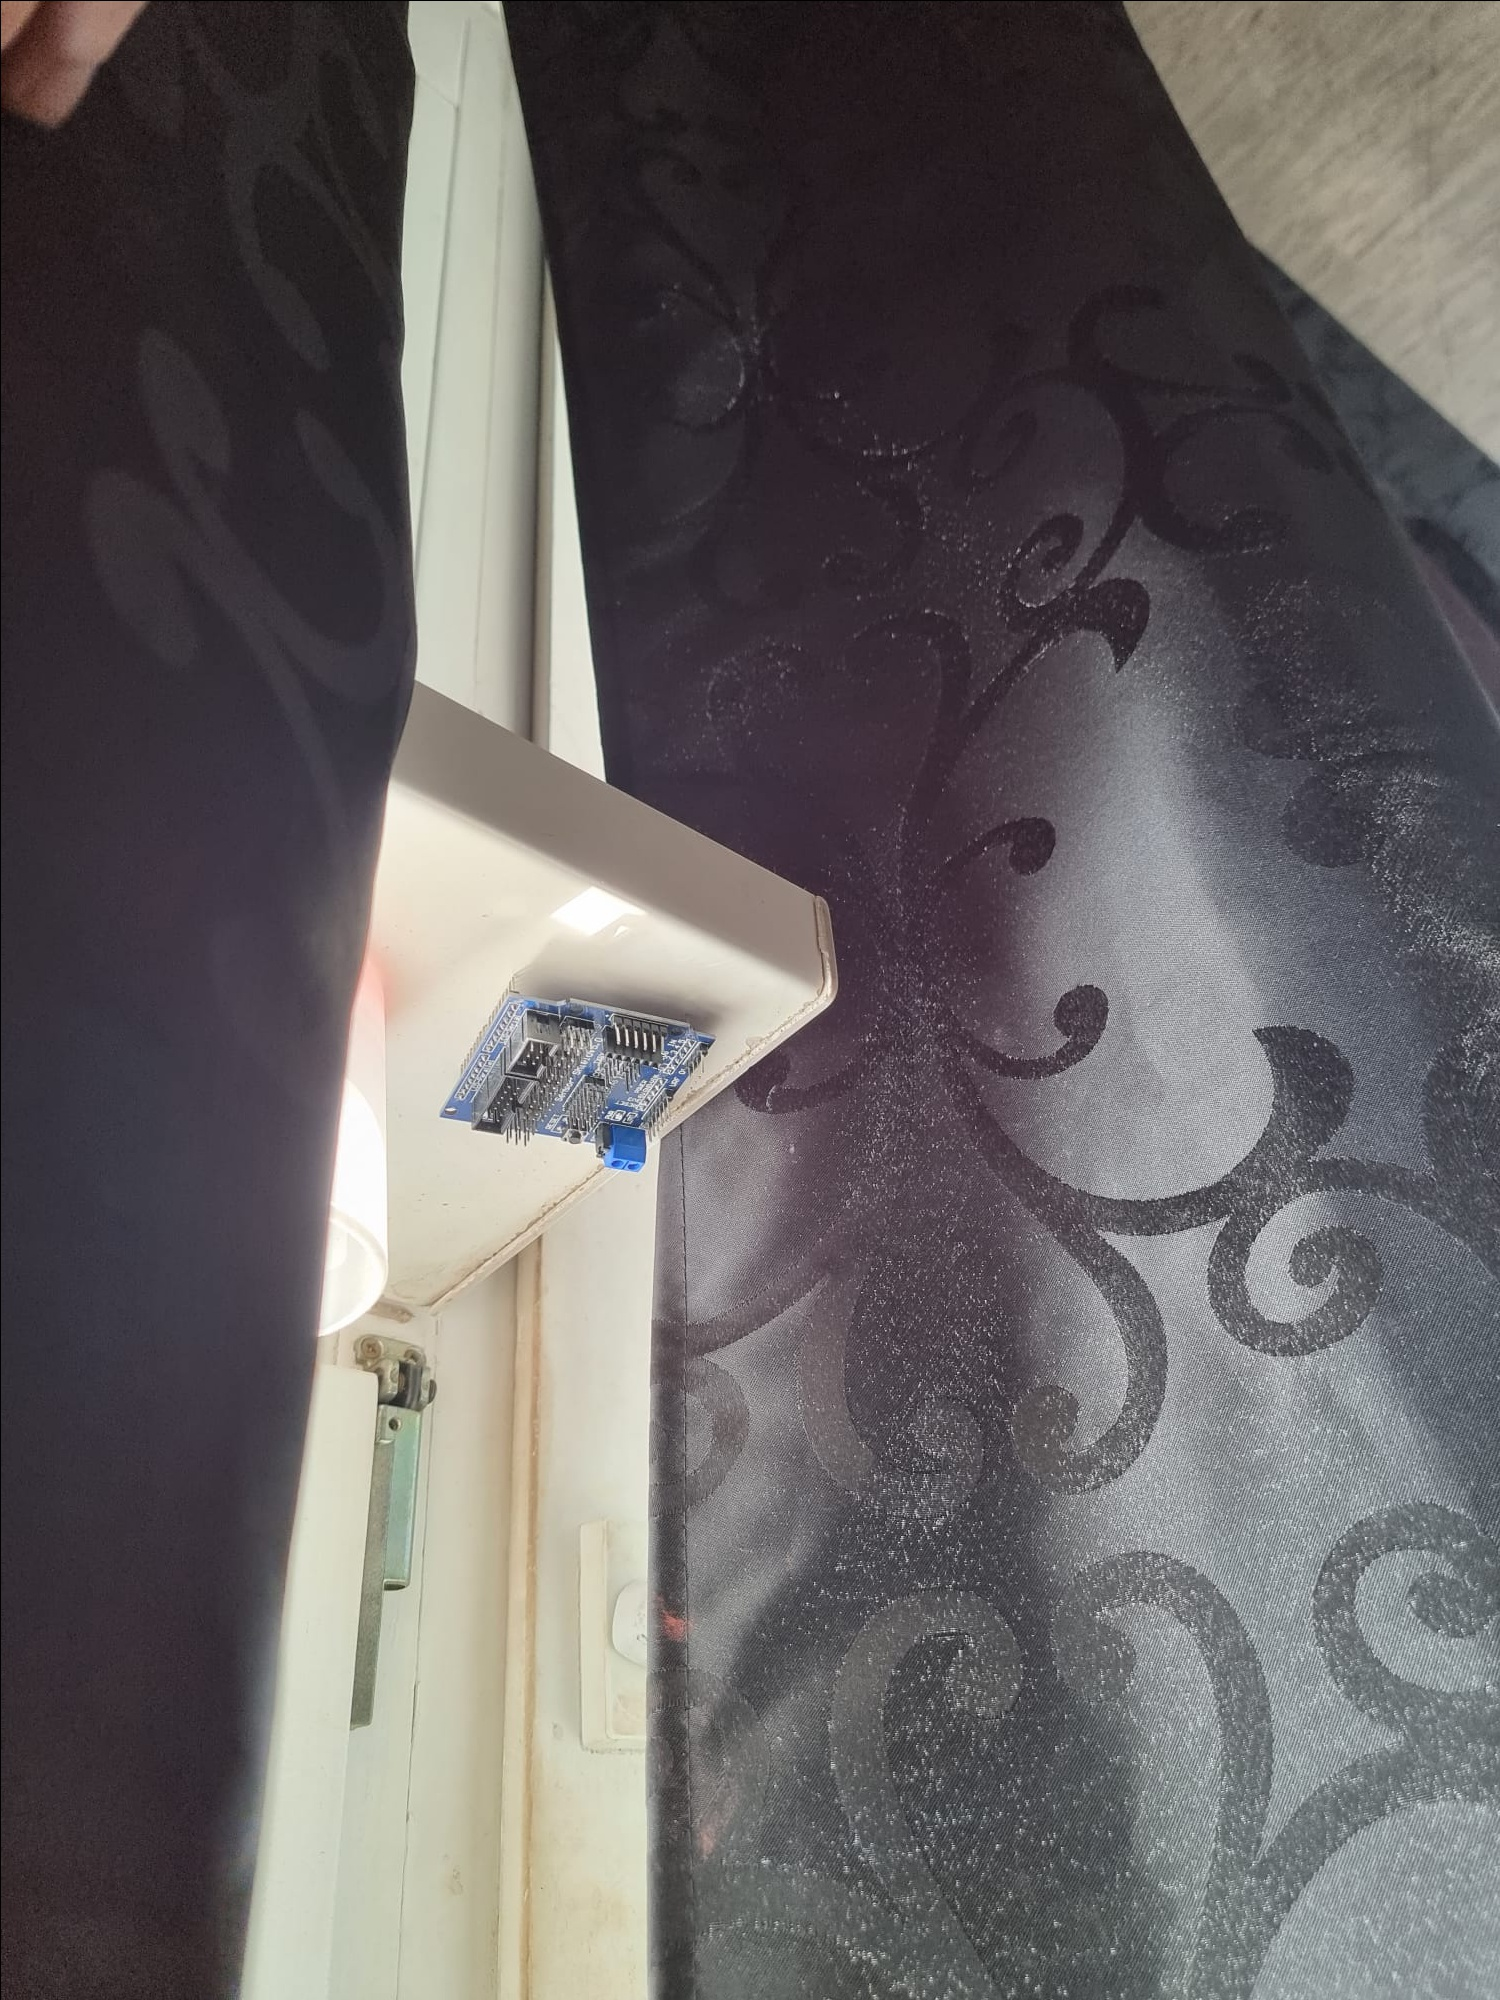5V EXPANSION: (440, 976, 701, 1180)
